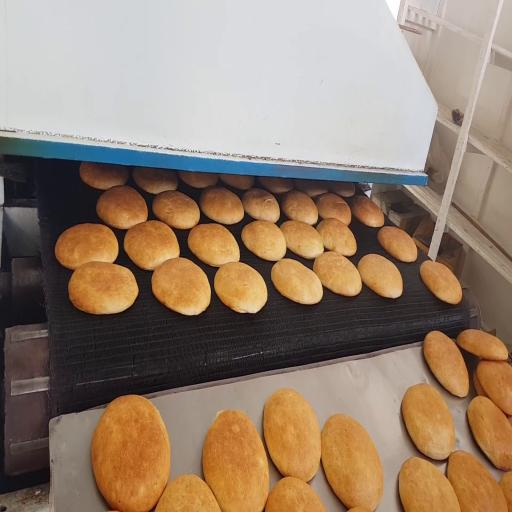bread: (91, 395, 170, 511), (203, 411, 269, 511), (322, 414, 383, 510), (264, 389, 321, 482), (402, 384, 455, 460), (68, 262, 138, 314), (448, 451, 507, 511), (152, 258, 210, 315), (399, 457, 460, 511), (467, 396, 511, 470), (423, 331, 469, 397), (55, 224, 118, 270), (214, 262, 267, 313), (124, 221, 179, 270), (155, 475, 220, 511), (271, 259, 322, 304), (96, 185, 147, 229), (188, 224, 239, 266), (314, 252, 361, 296), (266, 477, 325, 511), (358, 254, 402, 298), (477, 360, 511, 415), (420, 260, 462, 304), (242, 220, 286, 261), (152, 191, 199, 229), (280, 221, 323, 259), (200, 187, 244, 224), (457, 330, 508, 360), (317, 219, 356, 256), (378, 227, 417, 262), (80, 162, 128, 190), (242, 189, 280, 222), (282, 191, 318, 225), (133, 167, 177, 194), (315, 193, 351, 225), (352, 196, 384, 227), (178, 171, 218, 188), (294, 179, 327, 197), (259, 177, 293, 194), (219, 174, 254, 190), (499, 472, 511, 511), (473, 369, 488, 397), (328, 182, 355, 197), (349, 507, 372, 511)
